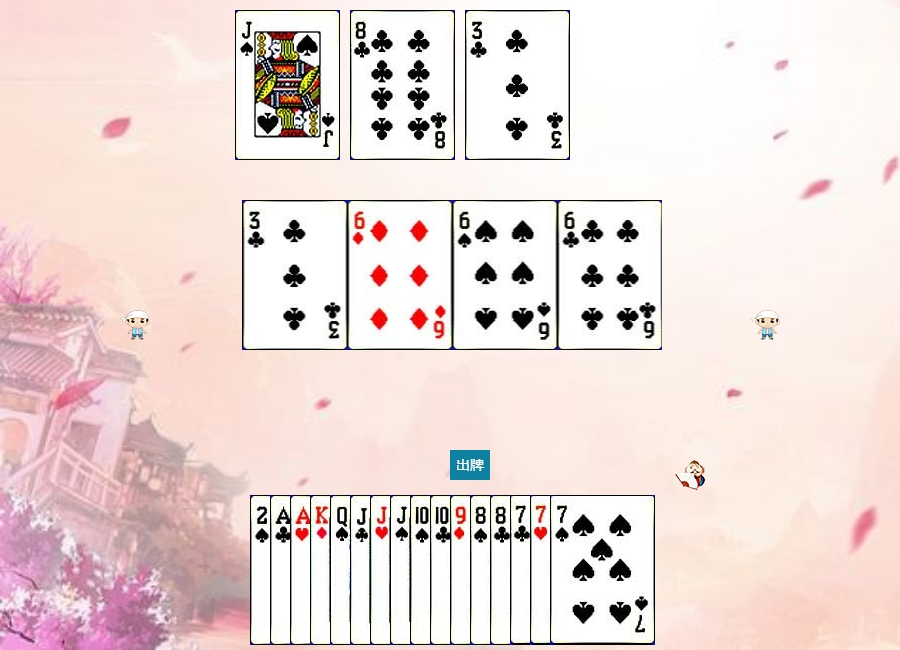10~2: (430, 495, 535, 645)
10~4: (410, 495, 515, 645)
11~2: (350, 495, 455, 645)
11~3: (370, 495, 475, 645)
11~4: (235, 10, 340, 160), (390, 495, 495, 645)
12~4: (330, 495, 435, 645)
13~1: (310, 495, 415, 645)
14~2: (270, 495, 375, 645)
14~3: (290, 495, 395, 645)
15~4: (250, 495, 355, 645)
3~2: (465, 10, 570, 160), (243, 200, 348, 350)
6~1: (348, 200, 453, 350)
6~2: (558, 200, 663, 350)
6~4: (453, 200, 558, 350)
7~2: (510, 495, 615, 645)
7~3: (530, 495, 635, 645)
7~4: (550, 495, 655, 645)
8~2: (350, 10, 455, 160), (490, 495, 595, 645)
8~4: (470, 495, 575, 645)
9~1: (450, 495, 555, 645)
